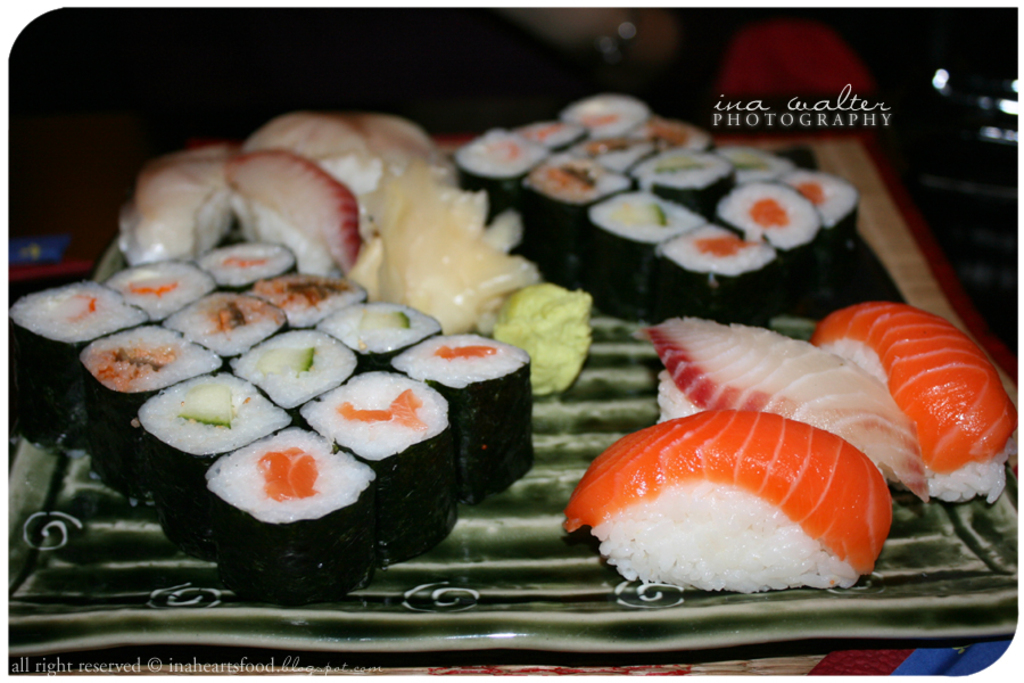sushi: (6, 241, 540, 608), (455, 92, 853, 319), (646, 316, 927, 509), (123, 114, 428, 274), (811, 303, 1022, 495)
